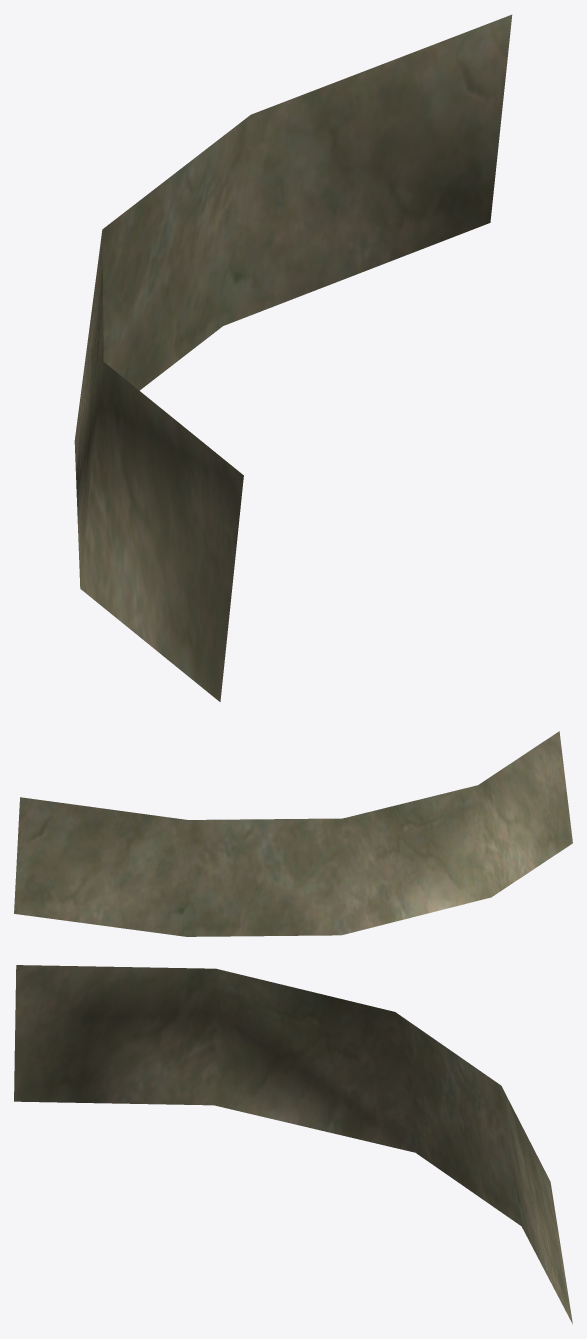
Rendered from EKH_CAVERNS_PS_CA_WALL_TRIM66238.fbx.
The picture shows the model from 3 angles, top to bottom: view 1: azimuth 30°, elevation 25°; view 2: azimuth 150°, elevation 25°; view 3: azimuth 270°, elevation 25°; orthographic projection. The views are drawn at different scales.
Visible parts, largest first — view 1: EKH_CAVERNS_PS_CA_WALL_TRIM66238; view 2: EKH_CAVERNS_PS_CA_WALL_TRIM66238; view 3: EKH_CAVERNS_PS_CA_WALL_TRIM66238.
Part boxes in pixels (left/top/right/bottom): EKH_CAVERNS_PS_CA_WALL_TRIM66238: left=74, top=14, right=512, bottom=701; EKH_CAVERNS_PS_CA_WALL_TRIM66238: left=14, top=731, right=572, bottom=936; EKH_CAVERNS_PS_CA_WALL_TRIM66238: left=14, top=965, right=572, bottom=1324.
Bounding box in the file's own units: 41627 × 12500 × 43742.
Materials: 1 (1 with a texture image).
